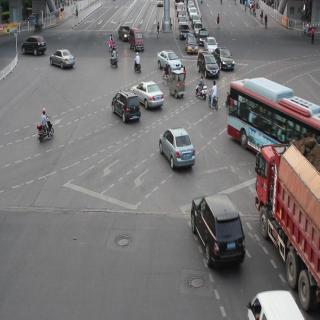BigCar: (254, 145, 320, 294), (227, 78, 295, 146)
Car: (189, 193, 245, 271), (158, 125, 196, 169), (111, 91, 140, 125), (135, 79, 165, 111), (197, 50, 221, 80), (48, 51, 76, 74), (156, 50, 182, 73), (168, 69, 185, 101), (22, 37, 46, 58), (217, 46, 236, 72), (131, 28, 144, 54), (205, 36, 218, 56), (118, 25, 130, 43), (185, 36, 198, 51), (199, 28, 208, 44)
